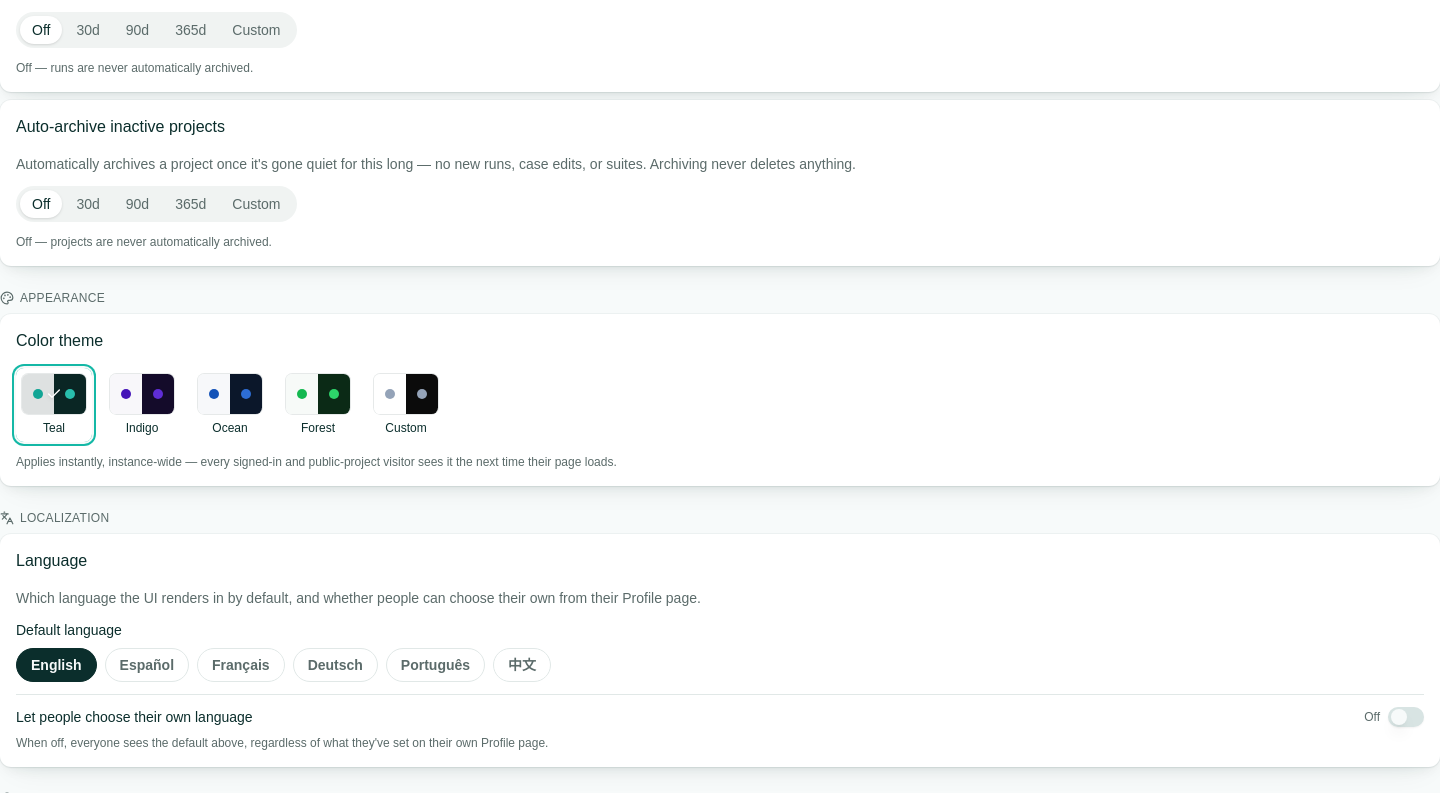
Test: InstanceSettingsPage › Appearance › renders a fifth "Custom" swatch, revealing the editor when selected
The width and height of the screenshot is (1440, 793).
(page scrolled)
Expected: the element named "Color theme" is shown, x1=16 y1=368 x2=444 y2=442
Expected: the button "Save custom palette" is not shown
Click the 3rd button "Custom".
click(406, 405)  # box x1=368 y1=368 x2=444 y2=442
(page scrolled)
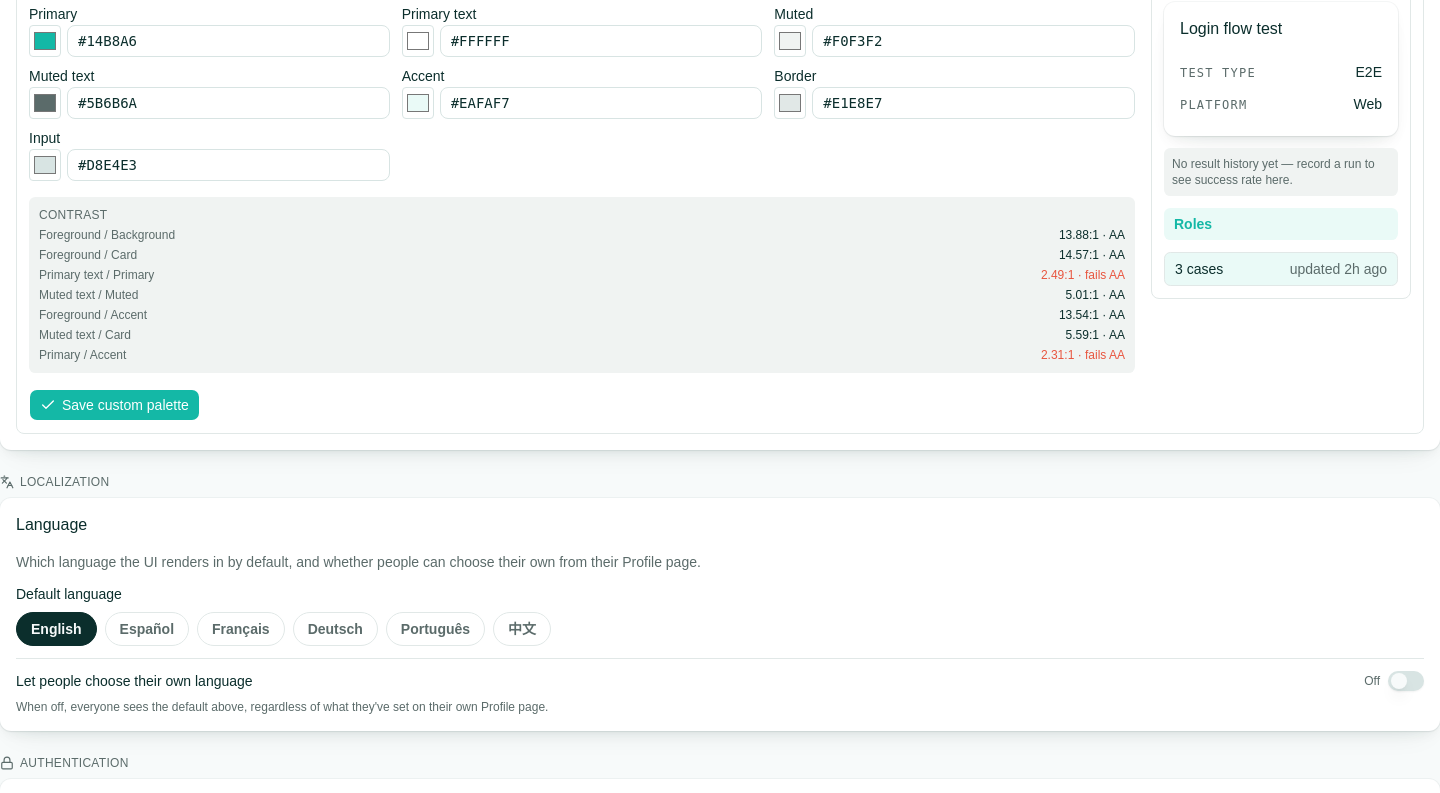
Now the button "Save custom palette" is shown, box x1=29 y1=389 x2=200 y2=421
